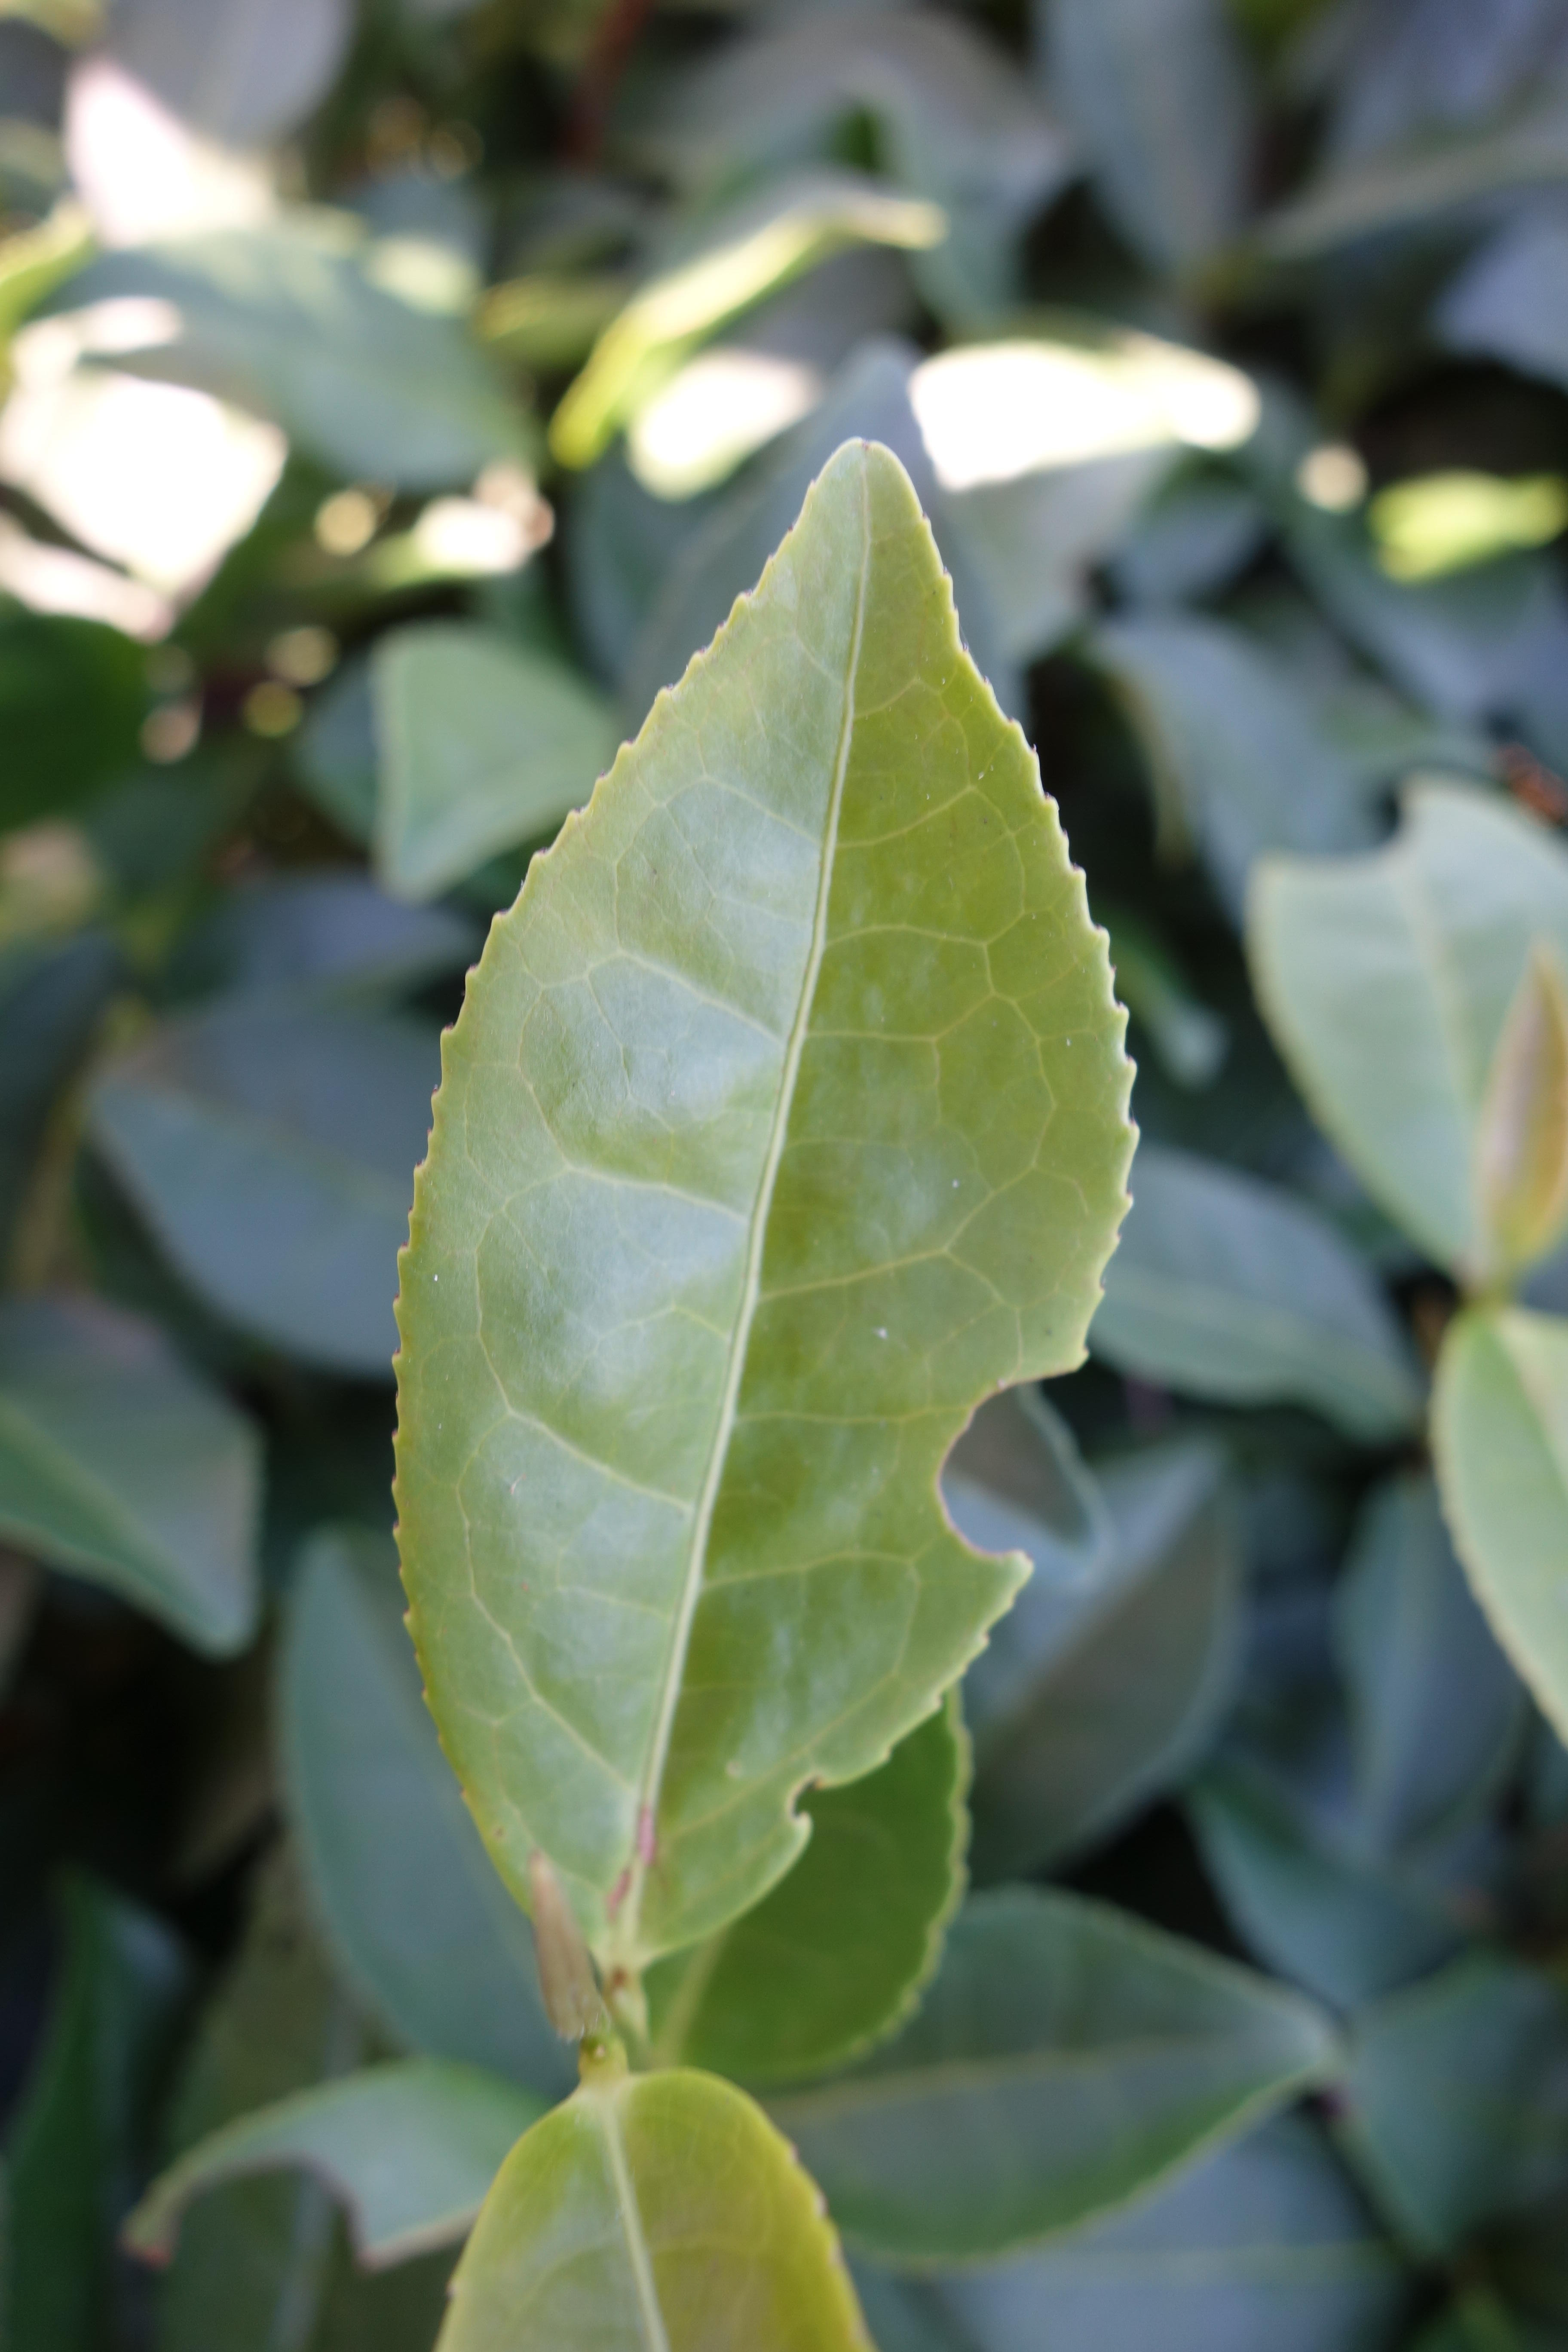chihuo_high: (385, 441, 1148, 1972)
tanju_low: (430, 2070, 882, 2345)
